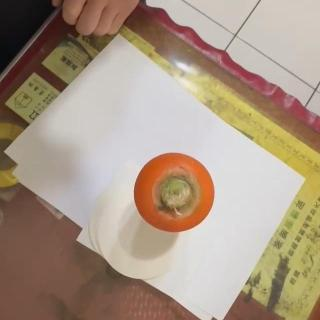carrot: (133, 153, 215, 231)
